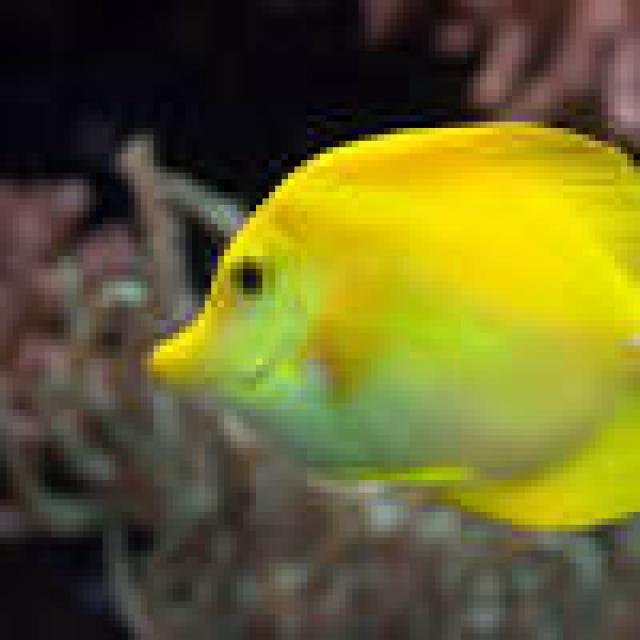YellowTang: (143, 103, 640, 548)
